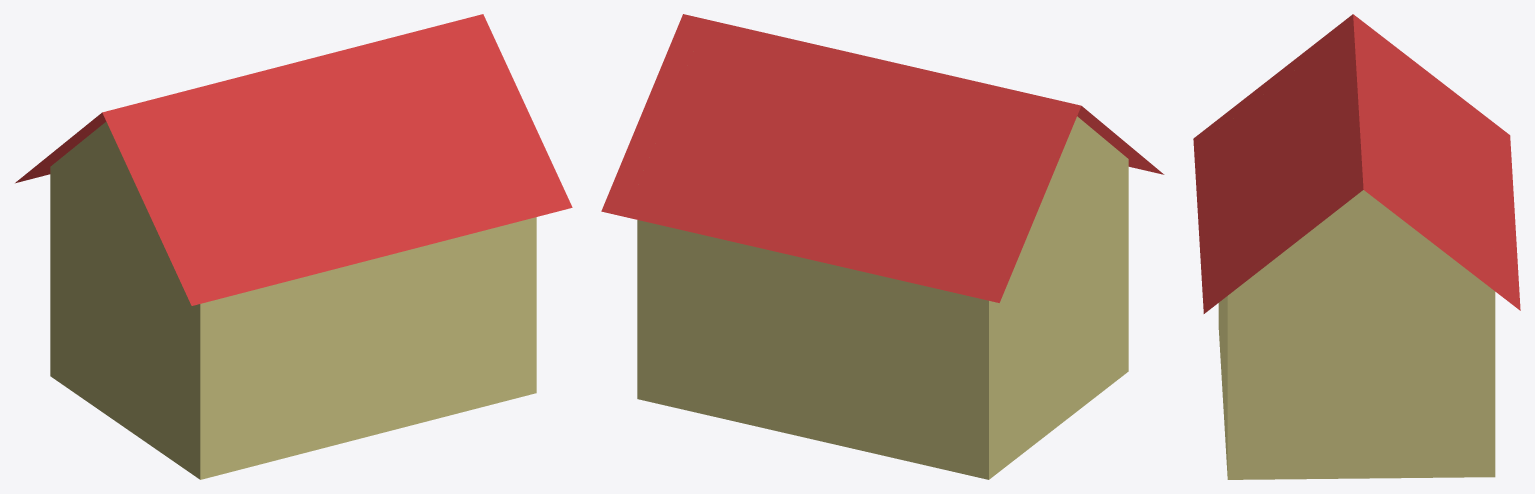
The picture shows the model from 3 angles, left to right: view 1: azimuth 30°, elevation 25°; view 2: azimuth 150°, elevation 25°; view 3: azimuth 270°, elevation 25°; orthographic projection. The views are drawn at different scales.
Bounding box in the file's own units: 12.96 × 10.01 × 10.1.
